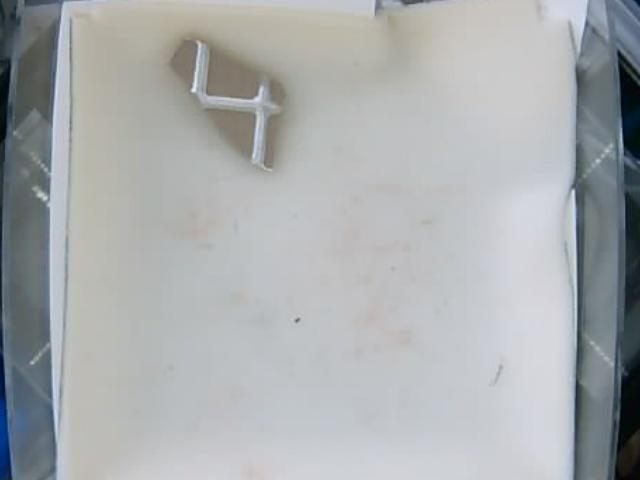China: (171, 37, 284, 175)
